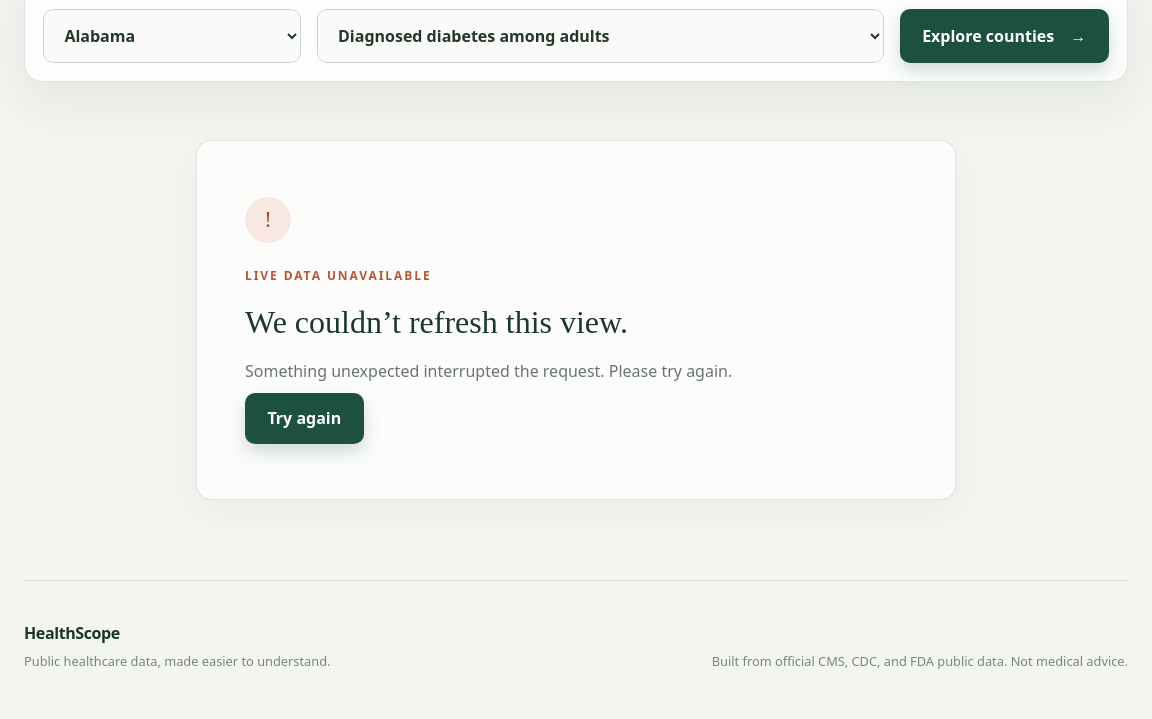
Scenario: community health explorer › offers a retry when the county request fails
(page scrolled)
Expected: the message shows "Something unexpected interrupted the request.", [245,360,732,382]
Click the button "Try again": (304, 418) [245,393,364,444]
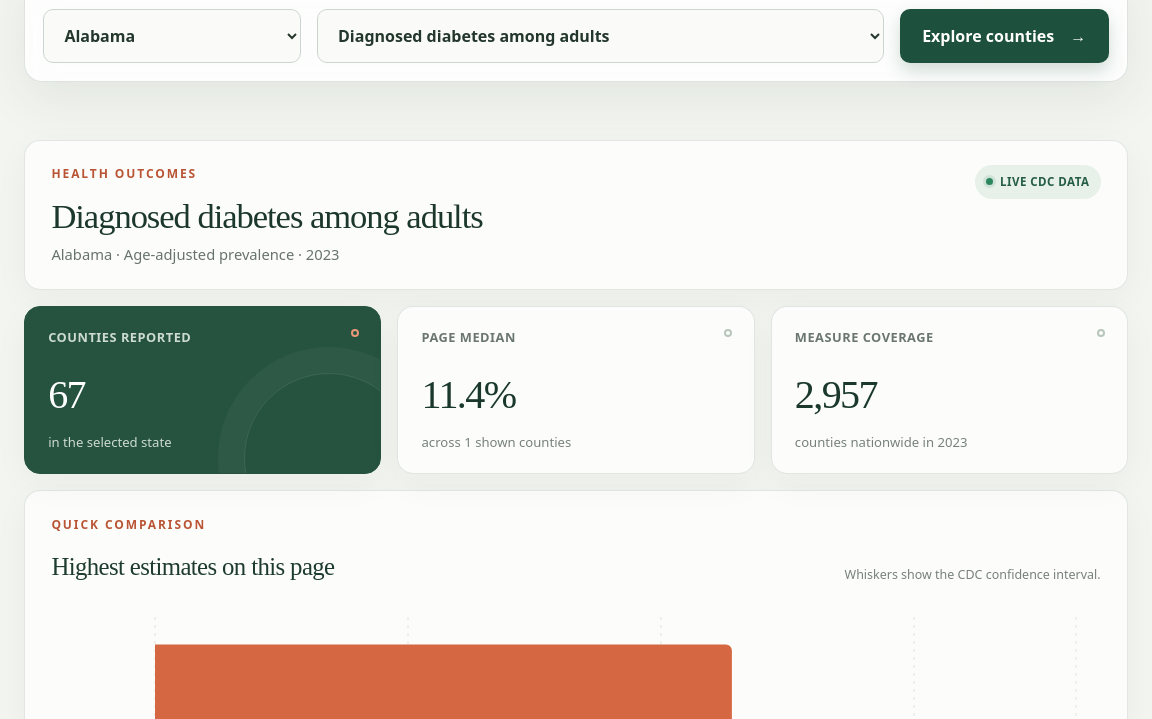
Result: the heading "Diagnosed diabetes among adults" is shown at [51,197,483,235]
